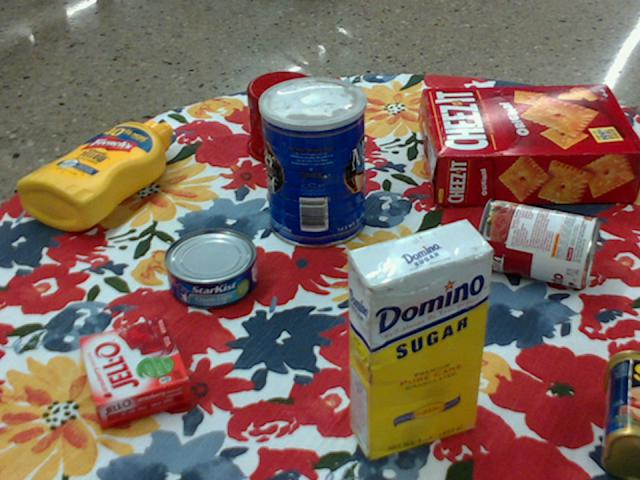cracker_box: (422, 86, 639, 207)
gelatin_box: (81, 320, 192, 433)
master_chef_can: (259, 75, 367, 248)
mug: (247, 71, 339, 166)
mustard_bottle: (17, 121, 172, 230)
potted_meat_can: (604, 347, 639, 479)
sugar_box: (345, 217, 492, 463)
tomato_soup_can: (478, 198, 601, 286)
tuna_fish_can: (163, 230, 257, 310)
